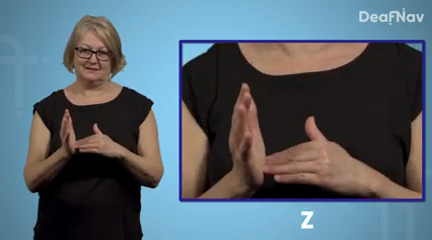Z: (54, 99, 127, 165)
